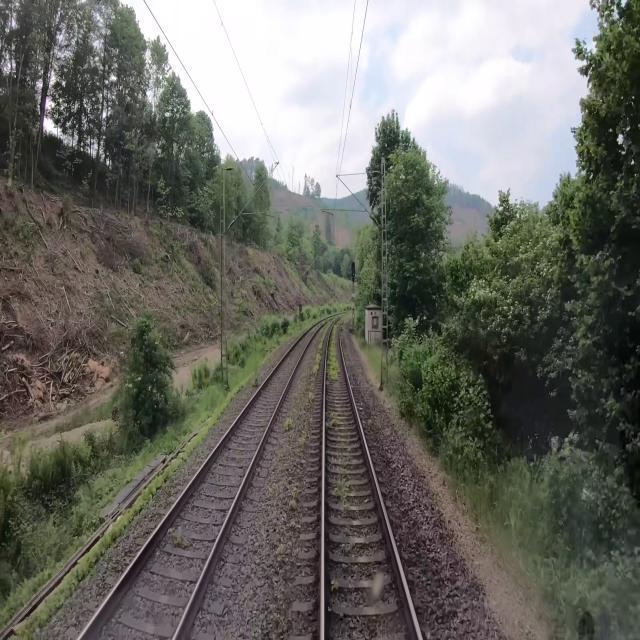Plant: (269, 320, 333, 561), (325, 405, 360, 519), (164, 511, 196, 561), (232, 376, 261, 417), (326, 320, 342, 385), (340, 532, 360, 560), (328, 573, 344, 602)
